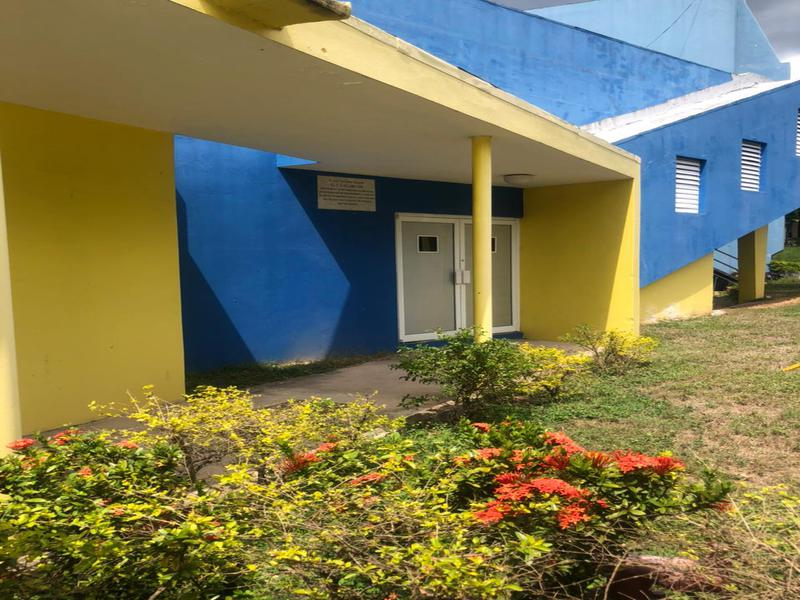slt2_door: (389, 206, 523, 344)
